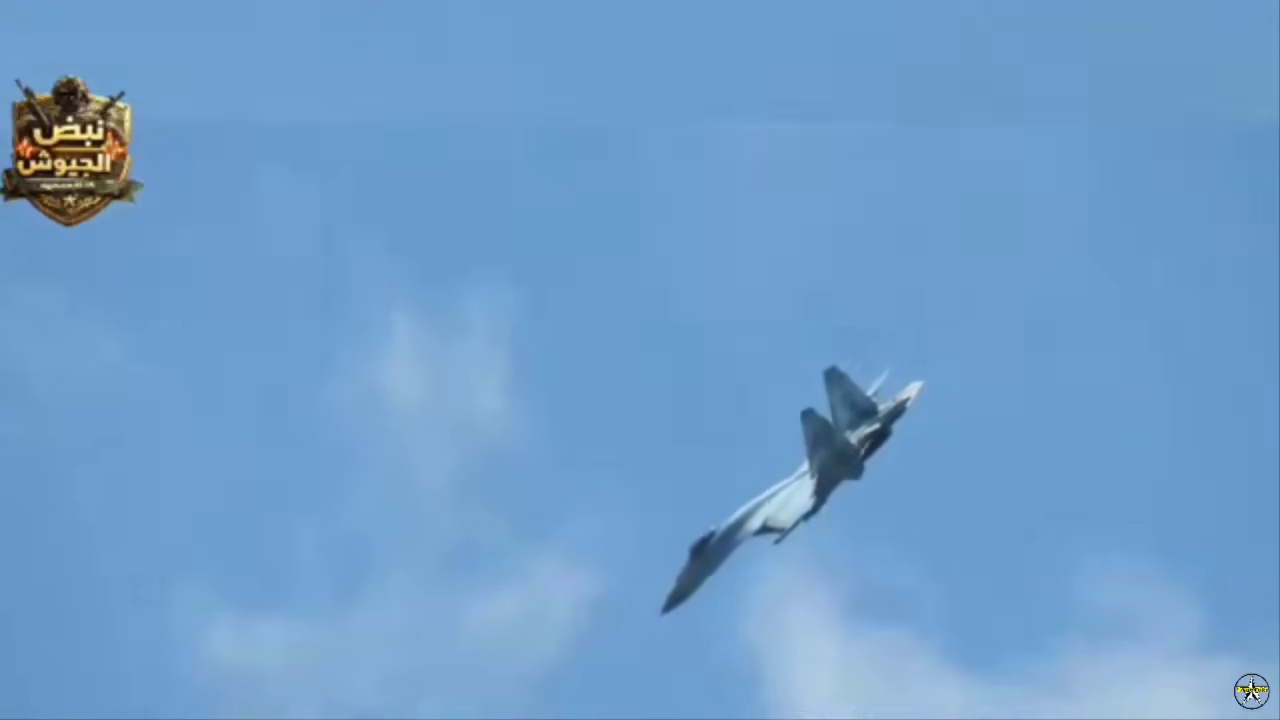Su35: (647, 357, 938, 622)
